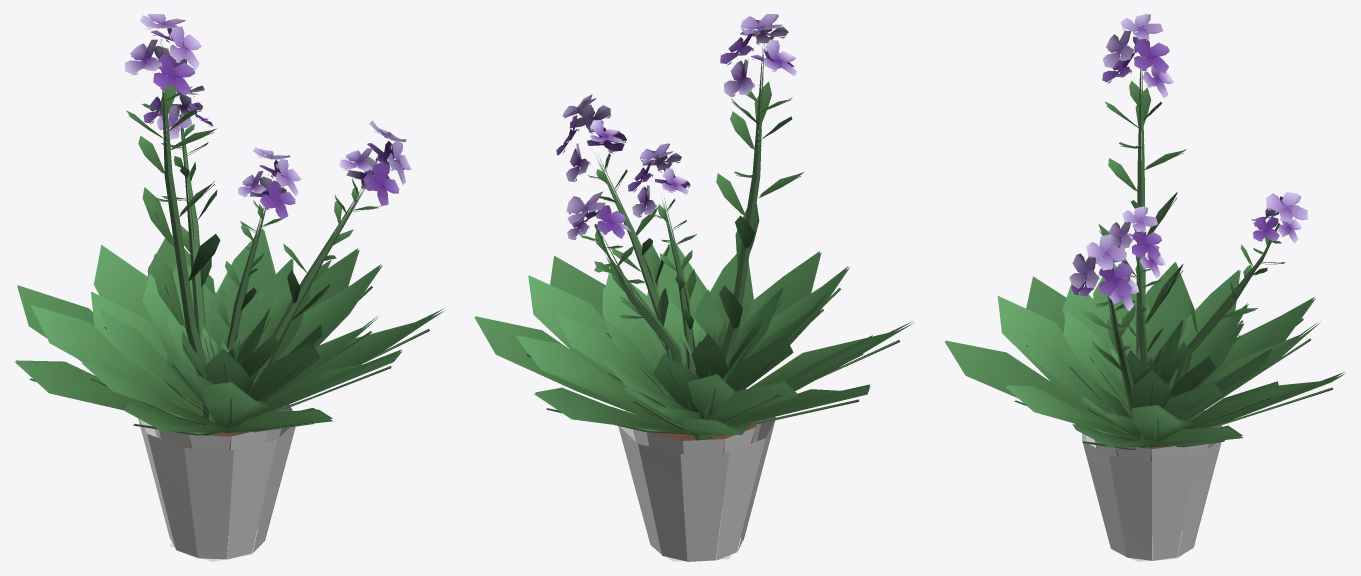
File: flower_purple.glb
The picture shows the model from 3 angles, left to right: view 1: azimuth 30°, elevation 25°; view 2: azimuth 150°, elevation 25°; view 3: azimuth 270°, elevation 25°; orthographic projection. The views are drawn at different scales.
Parts seen in each view (by area): view 1: FLowerLeafs_MadeiraHouse_0, FlowerViolett_MadeiraHouse_0, PotWhite_MadeiraHouse_0; view 2: FLowerLeafs_MadeiraHouse_0, FlowerViolett_MadeiraHouse_0, PotWhite_MadeiraHouse_0; view 3: FLowerLeafs_MadeiraHouse_0, FlowerViolett_MadeiraHouse_0, PotWhite_MadeiraHouse_0.
Boxes of the visible parts, <box> form: FLowerLeafs_MadeiraHouse_0: <box>14,228,443,435</box>; FlowerViolett_MadeiraHouse_0: <box>125,14,411,435</box>; PotWhite_MadeiraHouse_0: <box>138,404,295,561</box>; FLowerLeafs_MadeiraHouse_0: <box>474,240,913,438</box>; FlowerViolett_MadeiraHouse_0: <box>556,14,803,440</box>; PotWhite_MadeiraHouse_0: <box>618,410,775,561</box>; FLowerLeafs_MadeiraHouse_0: <box>944,262,1345,449</box>; FlowerViolett_MadeiraHouse_0: <box>1069,14,1307,447</box>; PotWhite_MadeiraHouse_0: <box>1082,410,1221,561</box>.
Size of the model in its own units: 193 by 266 by 196.
1 material, 1 textured.
